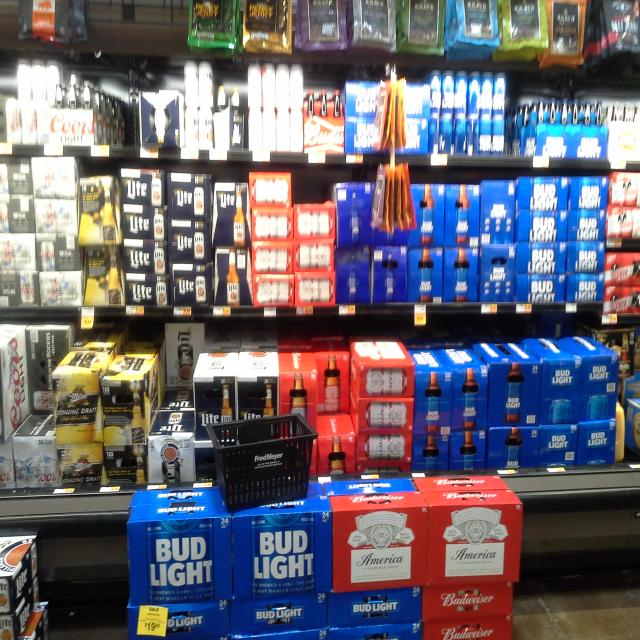unorganised: (204, 411, 316, 510), (154, 322, 192, 429), (616, 324, 640, 463), (16, 336, 51, 429), (320, 342, 353, 436), (183, 61, 214, 147), (429, 118, 478, 155), (467, 71, 482, 119)
